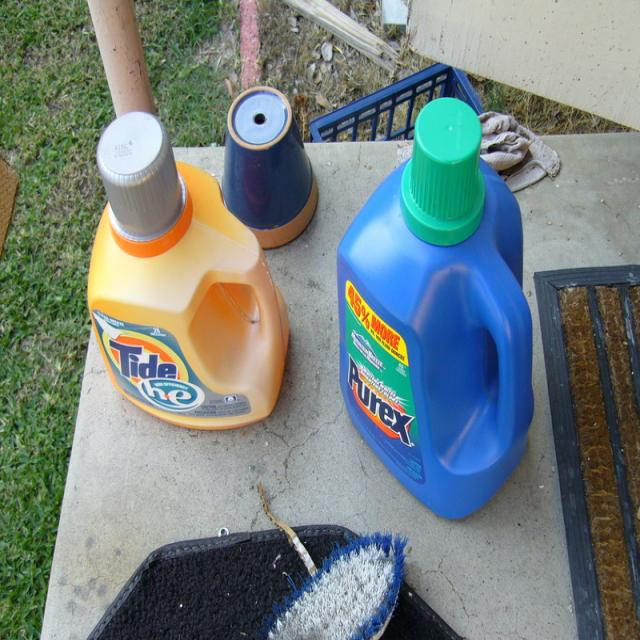container -bottle - bresh: (338, 99, 533, 518), (88, 112, 288, 428)
